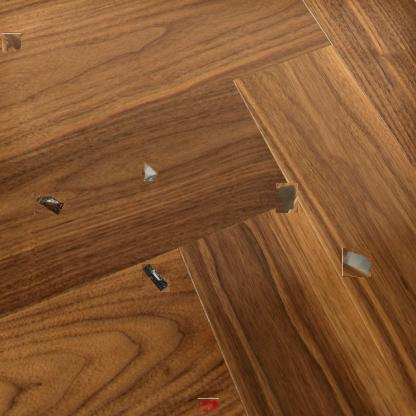dirty: (343, 248, 371, 277), (142, 264, 170, 292), (34, 192, 66, 216), (276, 183, 298, 213), (142, 160, 158, 182)
liquid: (197, 398, 219, 415), (2, 33, 21, 52)
